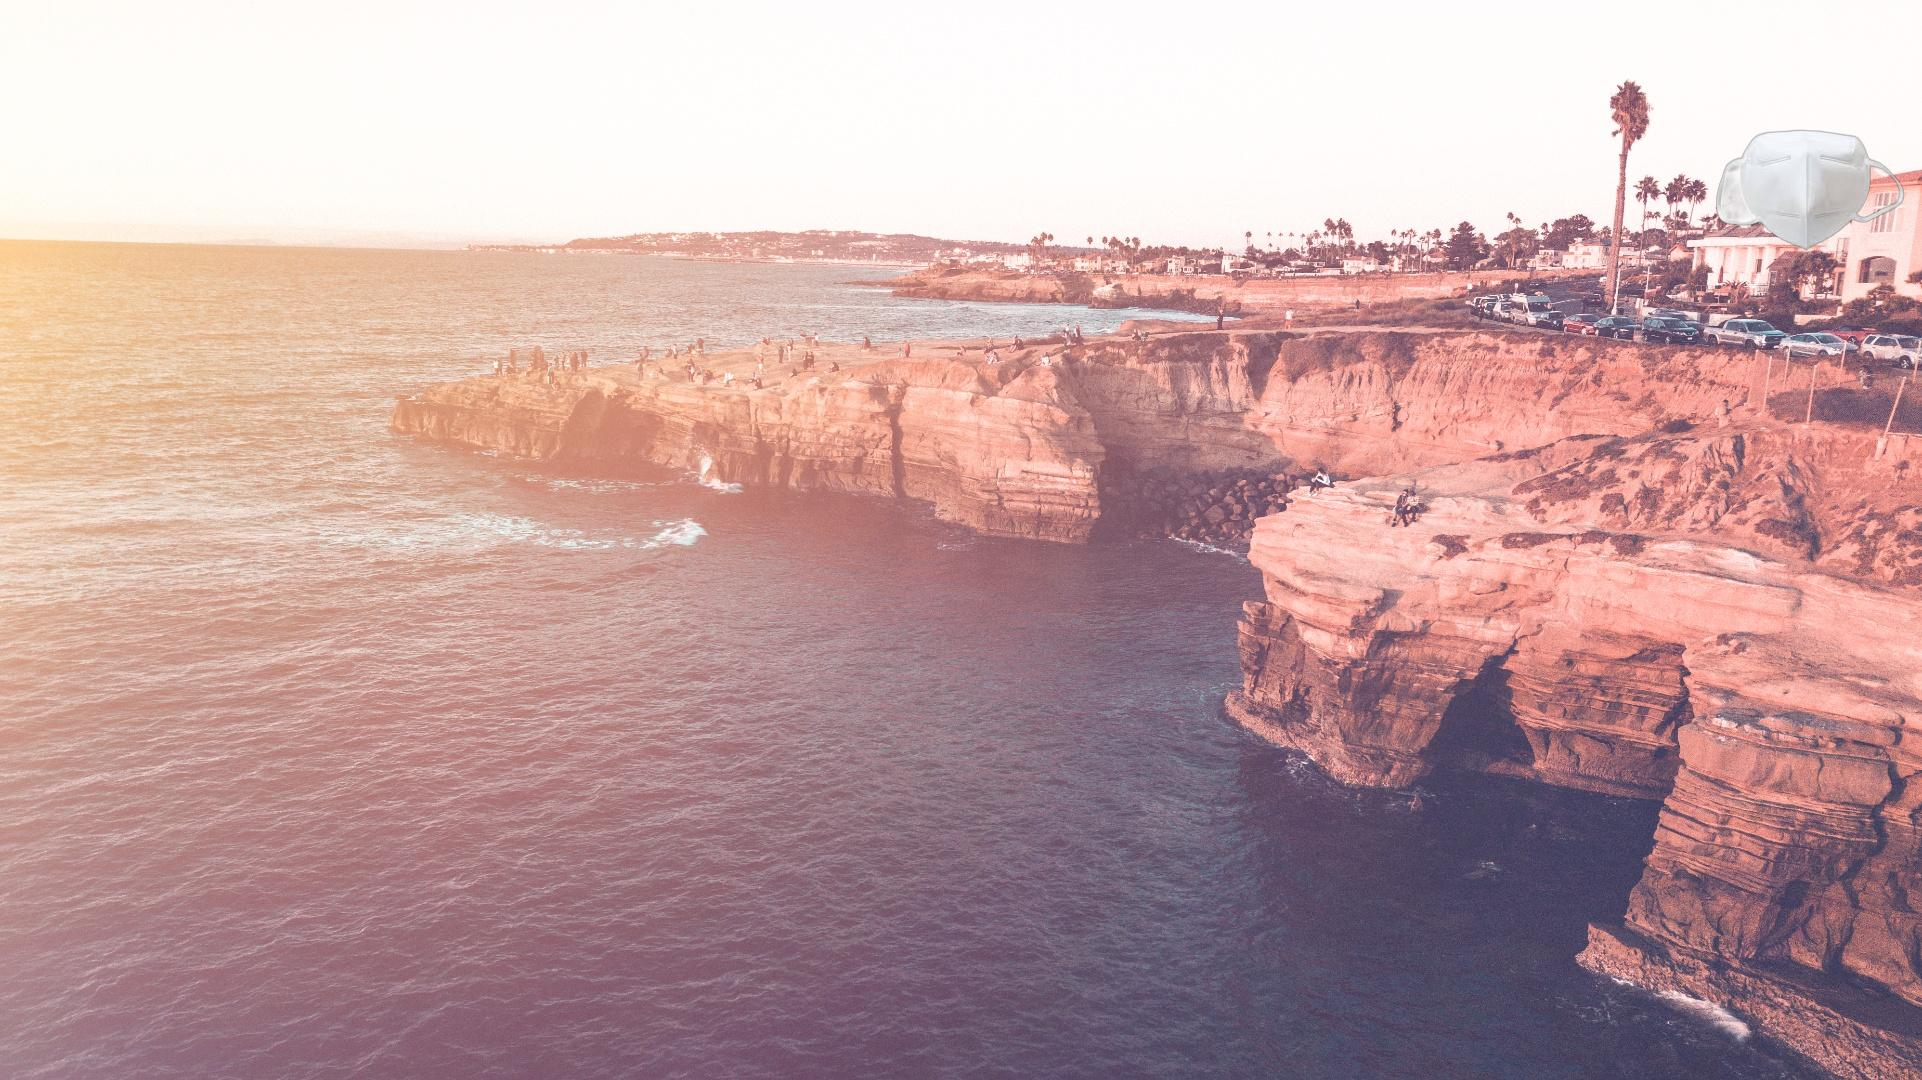trash: (1713, 127, 1907, 251)
